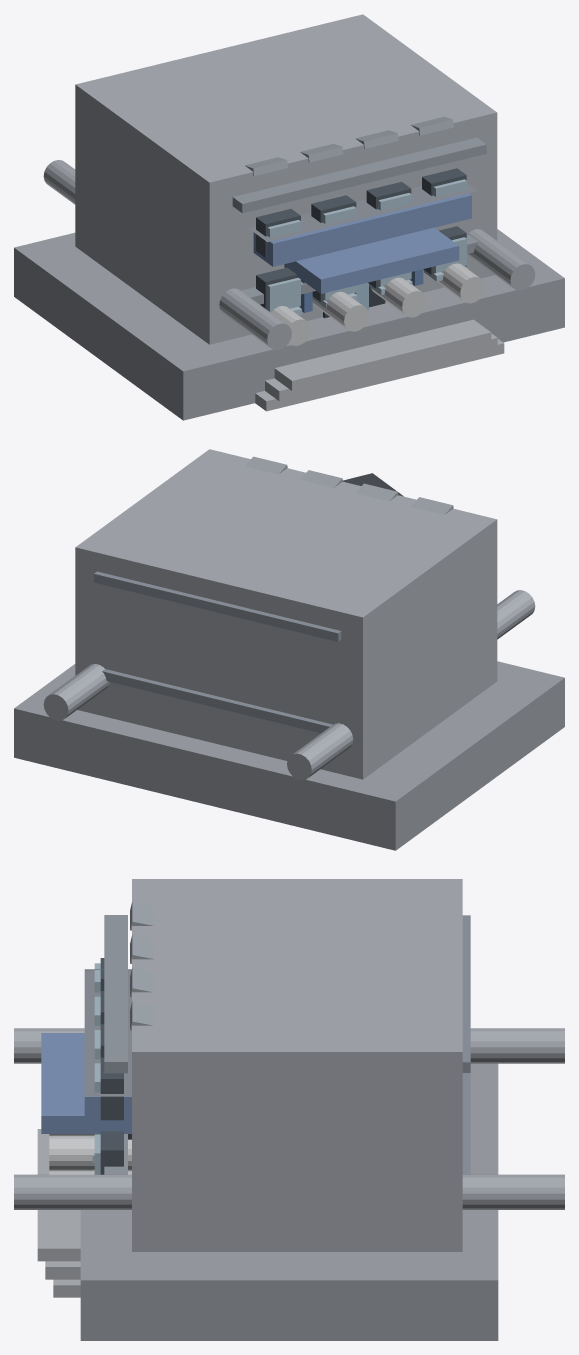
File: post_office.glb
3 views of the same model, one above another, from view 1: azimuth 30°, elevation 25°; view 2: azimuth 150°, elevation 25°; view 3: azimuth 270°, elevation 25° (orthographic). The views are drawn at different scales.
Parts seen in each view (by area): view 1: world; view 2: world; view 3: world.
Part boxes in pixels (x1=…): world: x1=14, y1=14, x2=564, y2=420; world: x1=14, y1=449, x2=564, y2=850; world: x1=14, y1=879, x2=564, y2=1340.
Bounding box in the file's own units: 1.38 × 0.795 × 1.4.
